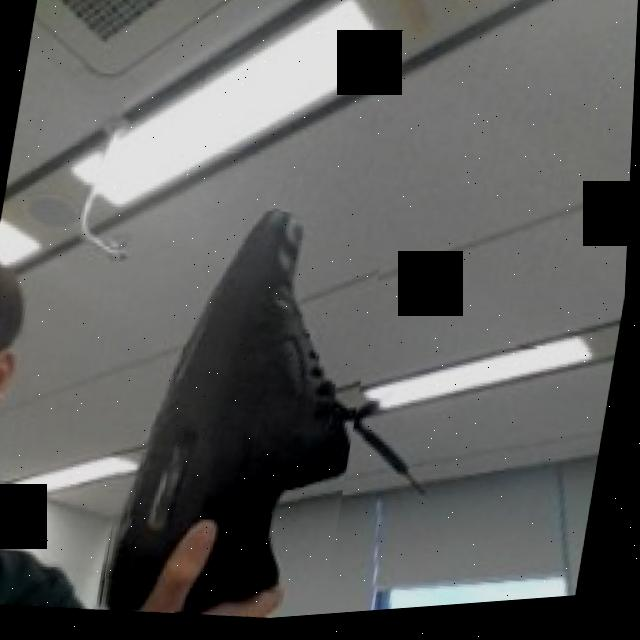shoe: (99, 195, 390, 633)
